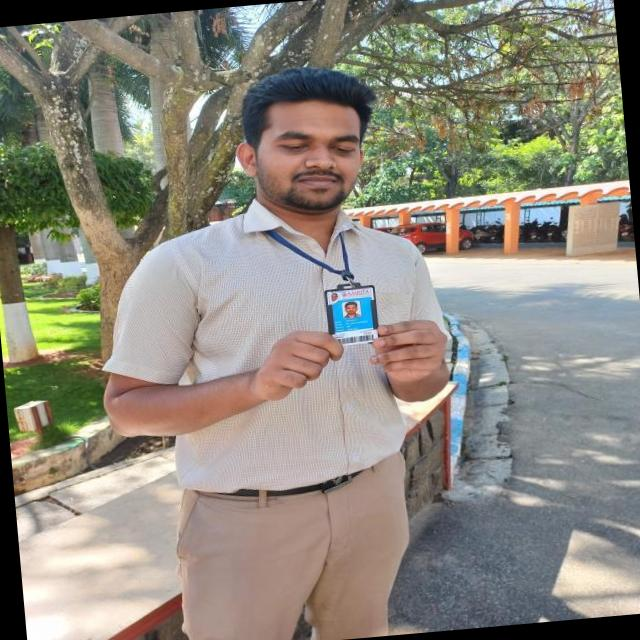id_card: (276, 210, 392, 352)
